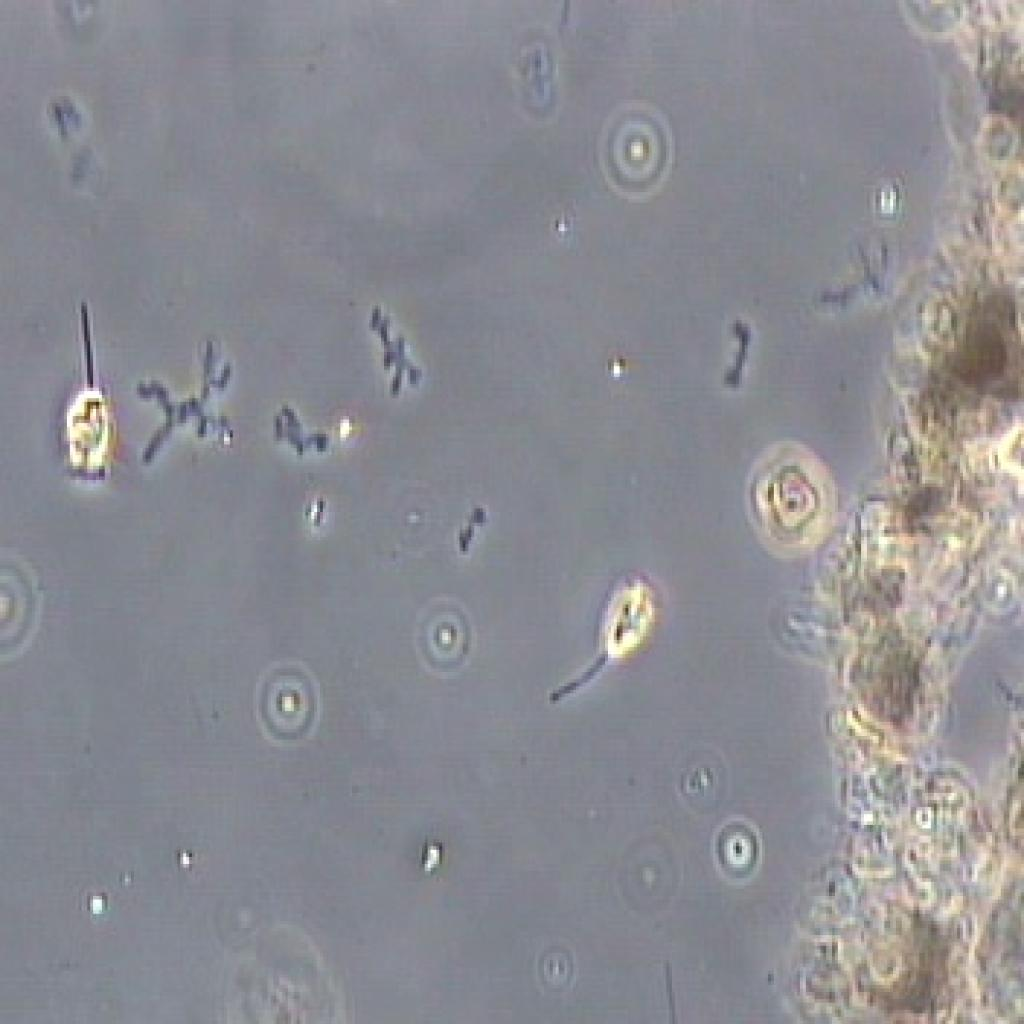Vorticella: (512, 546, 687, 738)
